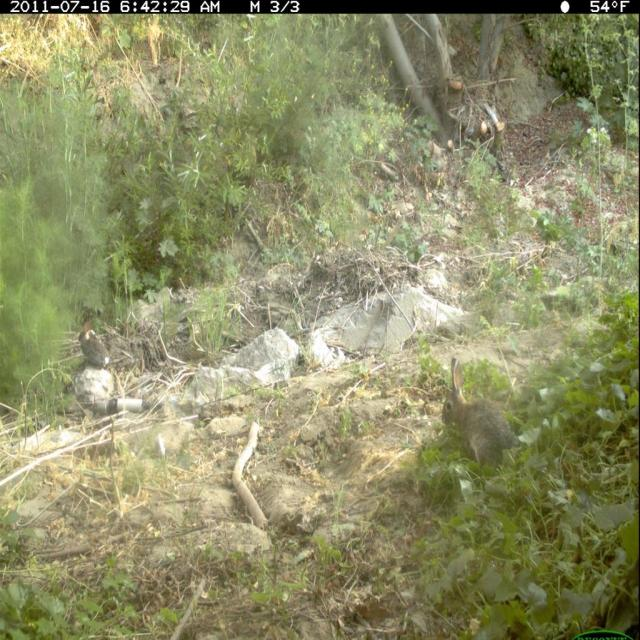rabbit: (433, 356, 523, 475)
